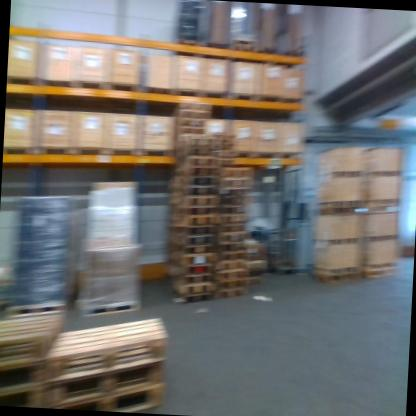pallet: (42, 311, 173, 398), (44, 355, 168, 410), (0, 307, 62, 372), (84, 382, 169, 413), (0, 356, 56, 403), (72, 293, 144, 321), (0, 381, 63, 407), (230, 40, 260, 61)
